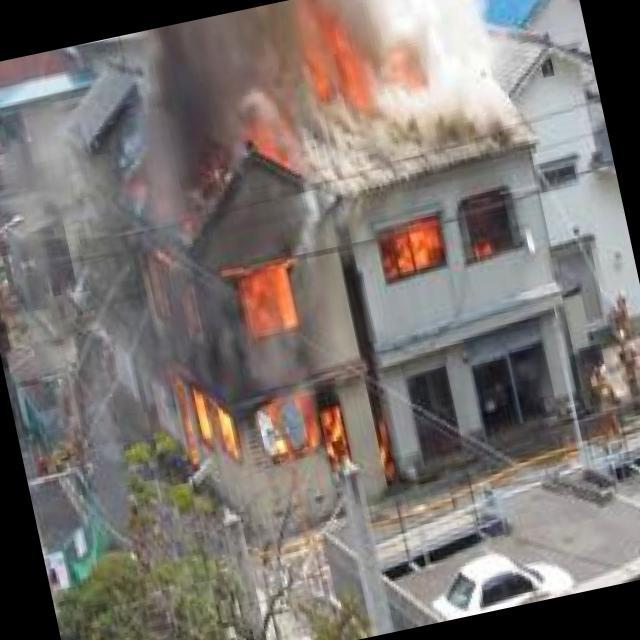Fire: (130, 188, 410, 530), (288, 10, 427, 120), (385, 210, 502, 284)
